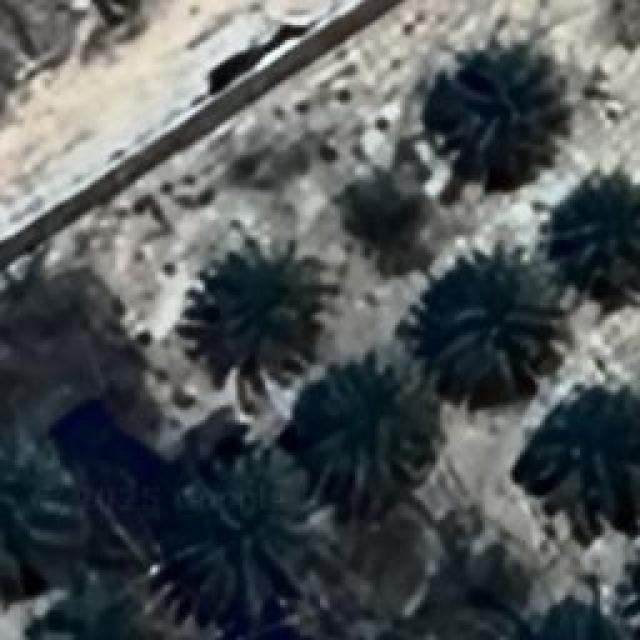PalmTree: (172, 448, 338, 608), (83, 44, 126, 618), (182, 256, 316, 376), (304, 380, 428, 508), (424, 58, 566, 168), (39, 165, 83, 502), (414, 270, 538, 378), (542, 397, 640, 515), (555, 188, 640, 296), (503, 603, 628, 640), (593, 0, 640, 53)
